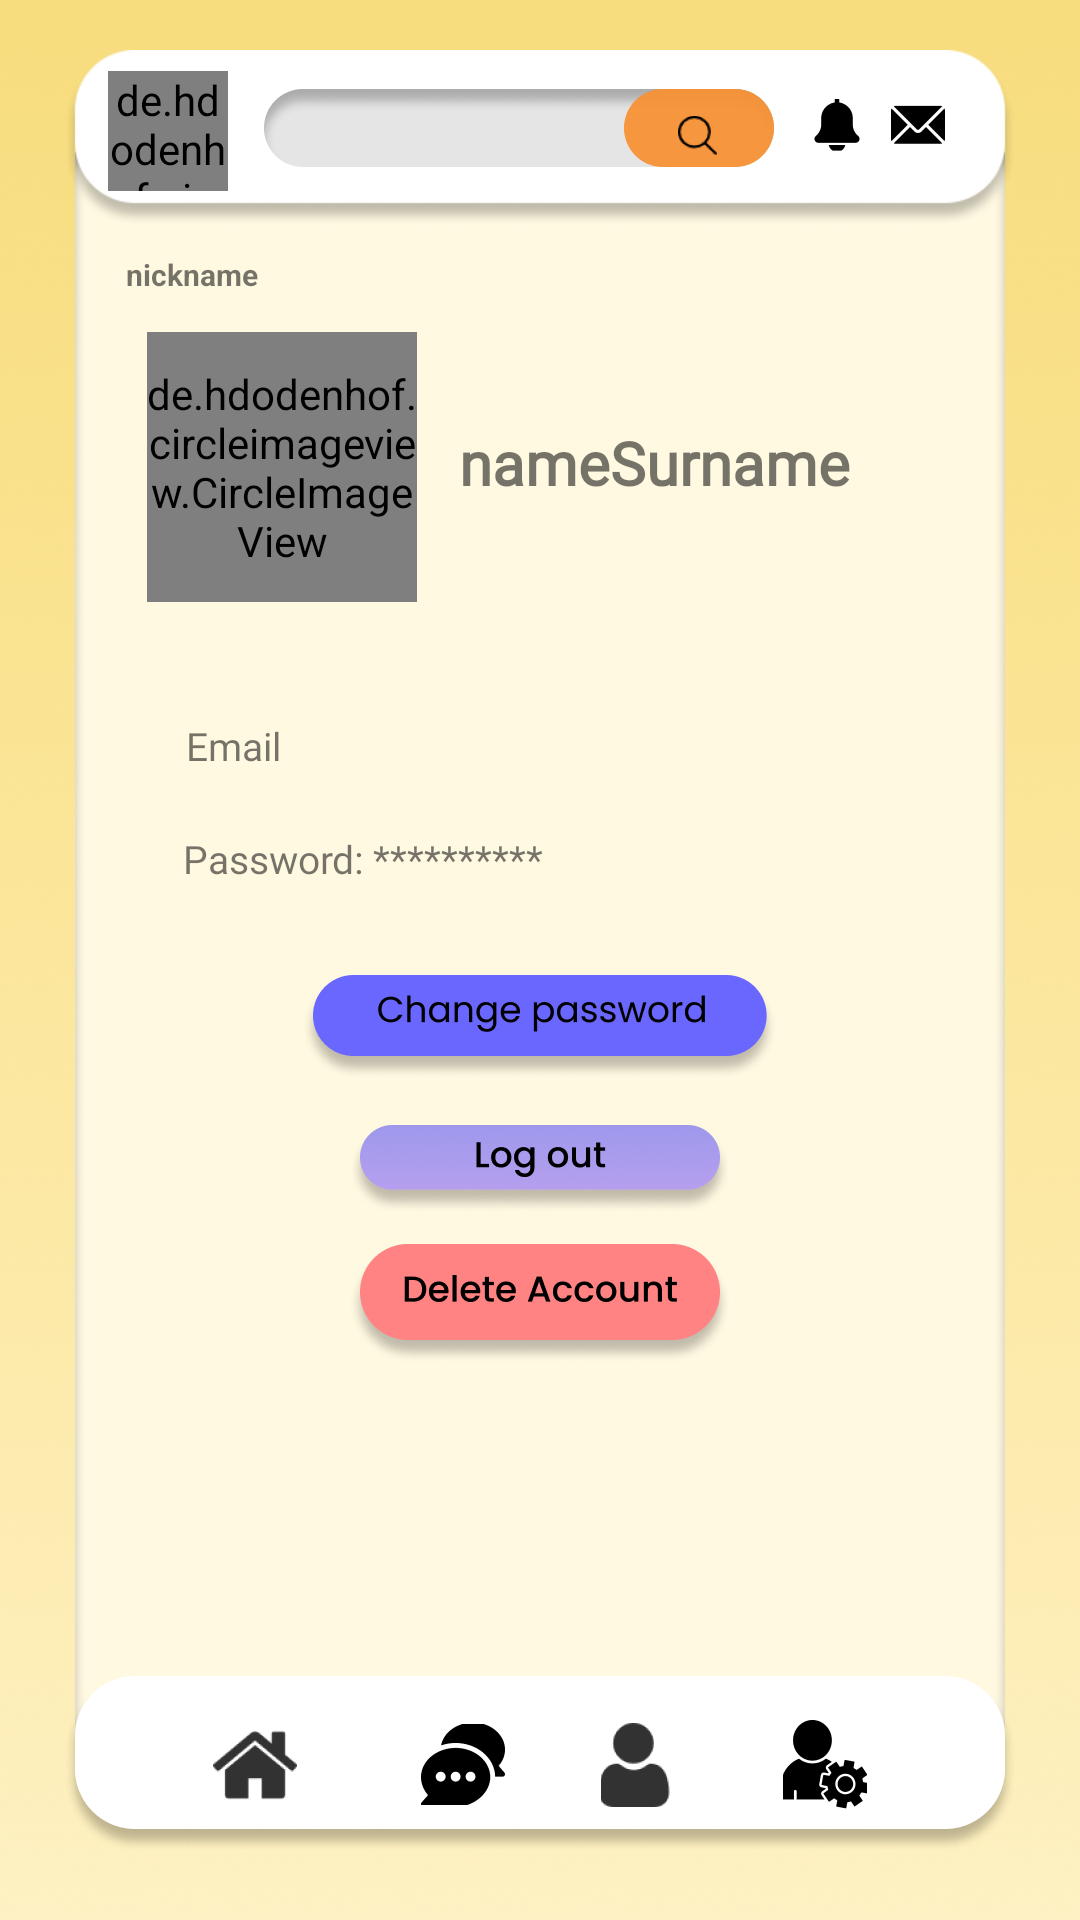

Screen size 1080 × 1920. Icon name, then its box in pixels as (left=x1, top=y1, right=x2, bottom=y2):
chaticon: (left=421, top=1724, right=505, bottom=1805)
homeicon: (left=213, top=1731, right=297, bottom=1799)
searchbutton: (left=624, top=89, right=774, bottom=167)
user: (left=601, top=1723, right=670, bottom=1807)
userset: (left=783, top=1720, right=867, bottom=1809)
